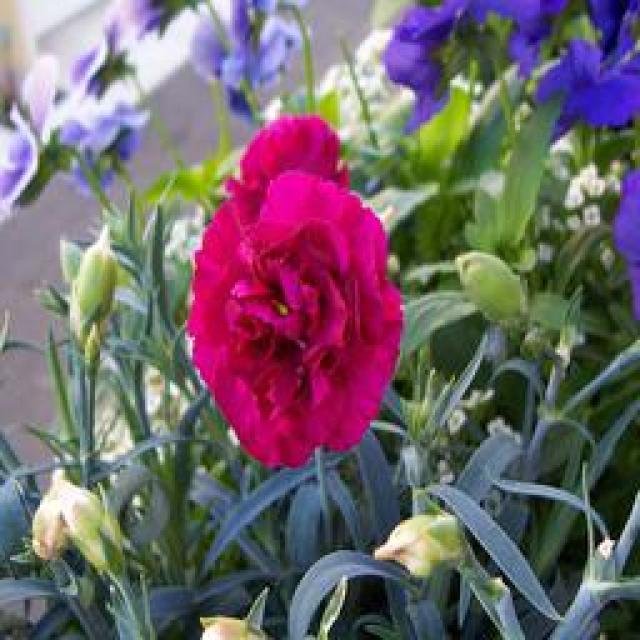carnation: (198, 171, 407, 461)
